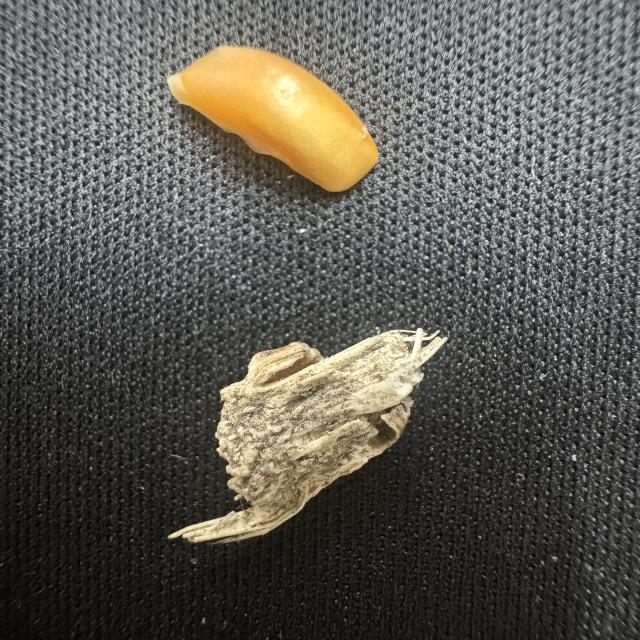Bad-Seed: (166, 324, 460, 563), (163, 34, 406, 218)
